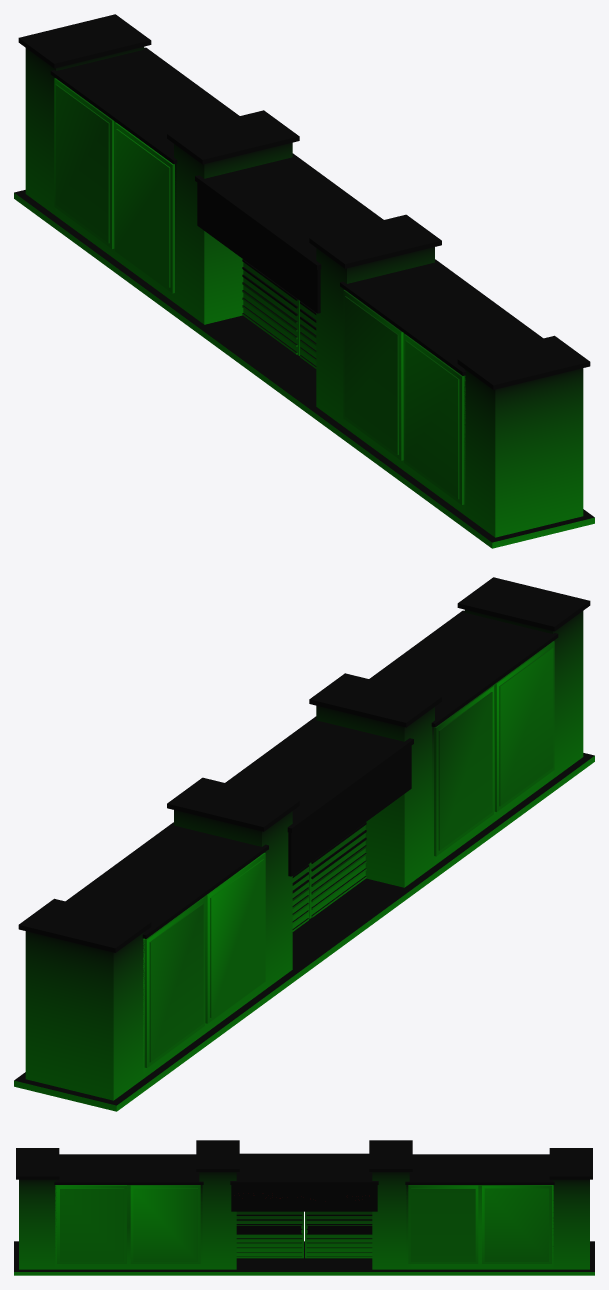
File: s_mediumgate.glb
3 renders of one model, top to bottom at view 1: azimuth 30°, elevation 25°; view 2: azimuth 150°, elevation 25°; view 3: azimuth 270°, elevation 25°, orthographic. The views are drawn at different scales.
Parts seen in each view (by area): view 1: lod0, door_l, door_r; view 2: lod0, door_r, door_l; view 3: lod0, door_l, door_r.
Boxes of the visible parts, x1,y1,x2,y2 form: lod0: (14, 14, 594, 548); door_l: (242, 259, 299, 355); door_r: (299, 301, 316, 368); lod0: (14, 577, 594, 1111); door_r: (309, 822, 366, 918); door_l: (292, 864, 309, 931); lod0: (14, 1140, 594, 1275); door_l: (305, 1211, 372, 1258); door_r: (236, 1211, 303, 1258).
Size of what is drawn, in the model's own units: 7 by 11.32 by 56.4.
